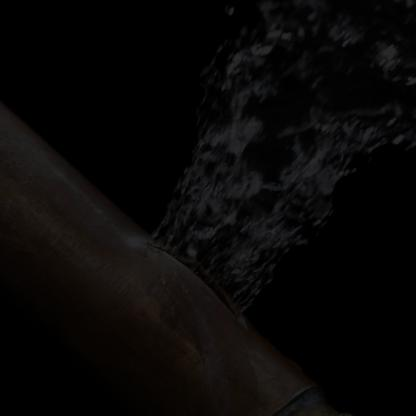burst: (114, 200, 281, 357)
